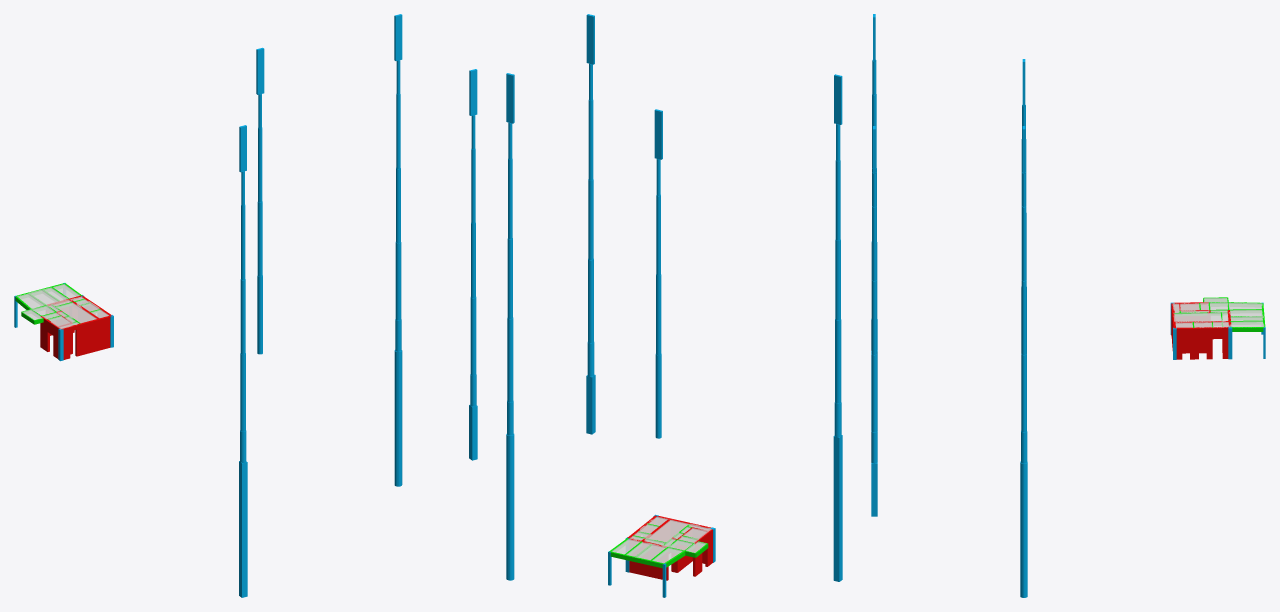
File: _Selection.glb
3 renders of one model, left to right at view 1: azimuth 30°, elevation 25°; view 2: azimuth 150°, elevation 25°; view 3: azimuth 270°, elevation 25°, orthographic. The views are drawn at different scales.
Visible parts, largest first — view 1: Column_3D1, Wall_3D1, Floor_3D1, Beam_3D1; view 2: Column_3D1, Floor_3D1, Wall_3D1, Beam_3D1; view 3: Column_3D1, Floor_3D1, Wall_3D1, Beam_3D1.
Part boxes in pixels (x1,y1,x2,y2): Column_3D1: (14,14,477,597); Wall_3D1: (40,295,111,359); Floor_3D1: (17,284,108,328); Beam_3D1: (15,283,101,324); Column_3D1: (506,14,842,597); Floor_3D1: (611,517,711,563); Wall_3D1: (627,515,712,580); Beam_3D1: (609,523,708,568); Column_3D1: (871,14,1265,597); Floor_3D1: (1172,298,1264,327); Wall_3D1: (1171,302,1231,359); Beam_3D1: (1174,297,1265,331).
Size of the model in its own units: 50.79 by 81.9 by 62.48.
